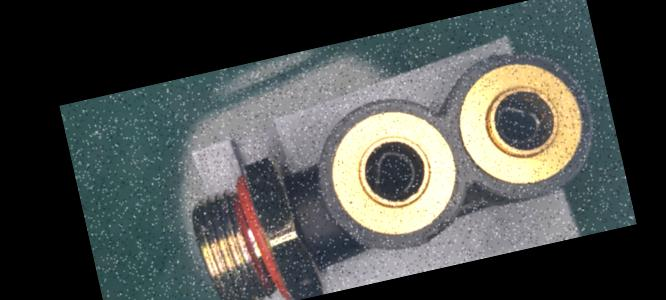bump: (481, 47, 530, 68), (418, 216, 455, 243)
off-centered: (360, 141, 431, 203), (488, 94, 552, 151)
white mark: (298, 199, 315, 216)
